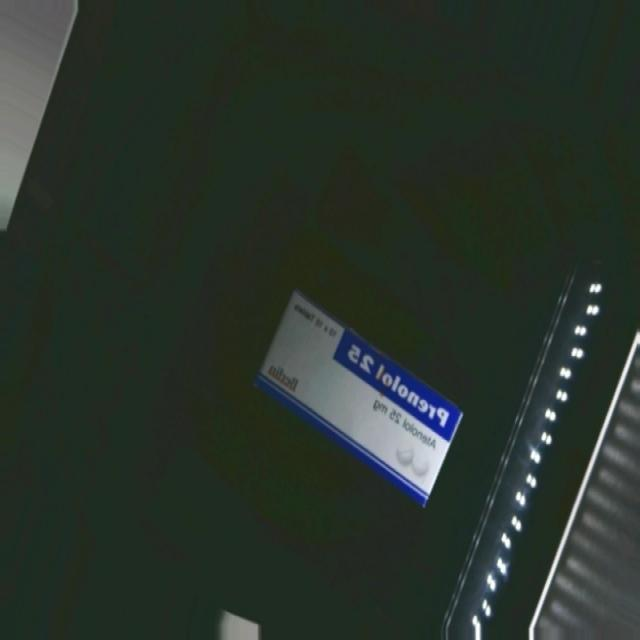prenolol: (233, 290, 481, 508)
